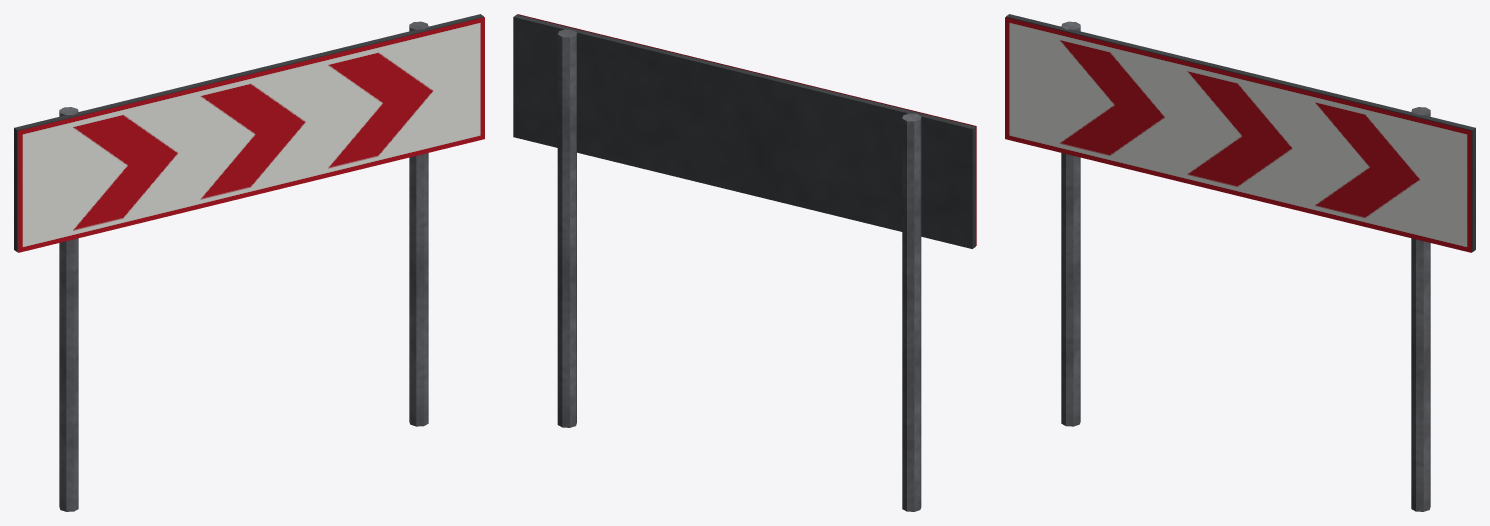
File: chevron_right.glb
The picture shows the model from 3 angles, left to right: view 1: azimuth 30°, elevation 25°; view 2: azimuth 150°, elevation 25°; view 3: azimuth 330°, elevation 25°; orthographic projection.
Visible parts, largest first — view 1: chevron_right; view 2: chevron_right; view 3: chevron_right.
Boxes of the visible parts, bbox=[...] form: chevron_right: bbox=[14, 14, 484, 511]; chevron_right: bbox=[513, 14, 976, 511]; chevron_right: bbox=[1005, 14, 1475, 511].
Size of the model in its own units: 1.6 by 1.3 by 0.075.
Materials: 3 (3 with a texture image).
